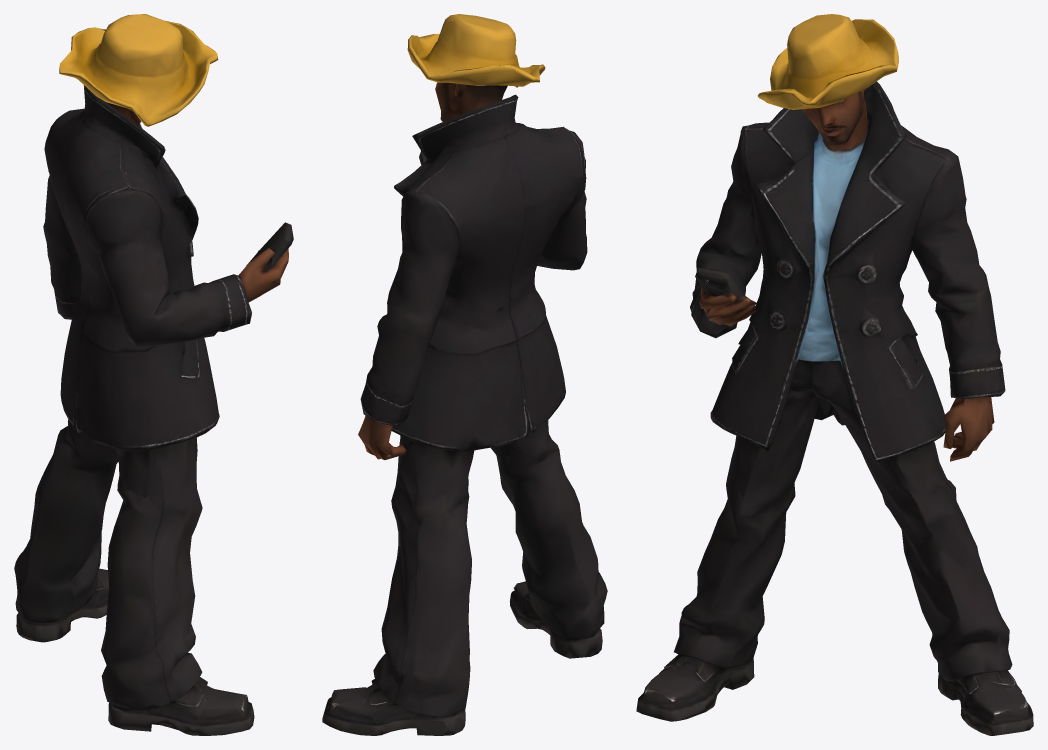
The model's file is stage1.glb.
3 renders of one model, left to right at view 1: azimuth 30°, elevation 25°; view 2: azimuth 150°, elevation 25°; view 3: azimuth 270°, elevation 25°, orthographic. The views are drawn at different scales.
Parts seen in each view (by area): view 1: tripo_node_c4acc7d8-32d7-43cd-a7e2-278772e3c970; view 2: tripo_node_c4acc7d8-32d7-43cd-a7e2-278772e3c970; view 3: tripo_node_c4acc7d8-32d7-43cd-a7e2-278772e3c970.
Boxes of the visible parts, bbox=[...] form: tripo_node_c4acc7d8-32d7-43cd-a7e2-278772e3c970: bbox=[14, 14, 293, 735]; tripo_node_c4acc7d8-32d7-43cd-a7e2-278772e3c970: bbox=[322, 14, 607, 735]; tripo_node_c4acc7d8-32d7-43cd-a7e2-278772e3c970: bbox=[636, 14, 1033, 735].
Bounding box in the file's own units: 0.2987 × 1 × 0.5254.
Materials: 1 (1 with a texture image).
